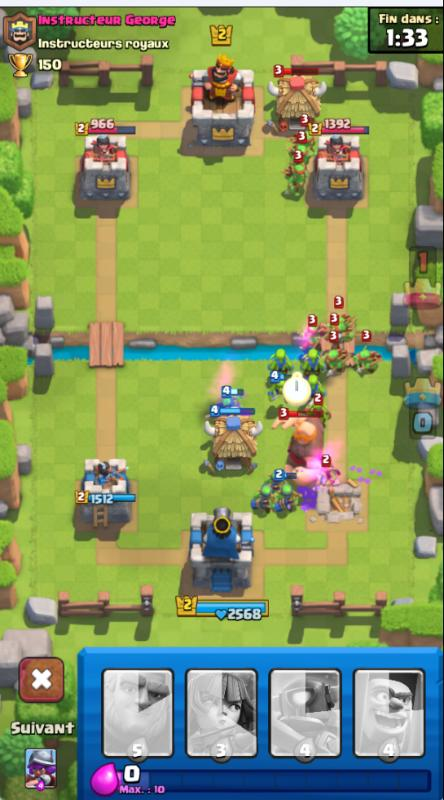geant: (273, 406, 328, 493)
gobelin: (306, 399, 332, 434), (319, 454, 338, 494), (302, 347, 323, 382), (267, 346, 287, 380), (308, 372, 329, 403), (270, 376, 289, 405)
gobelin_lances: (296, 316, 325, 351), (331, 310, 357, 348), (281, 164, 309, 199), (293, 124, 319, 160), (354, 347, 380, 382), (324, 346, 350, 380), (250, 483, 273, 518), (276, 484, 298, 519), (289, 145, 313, 177), (264, 469, 288, 492)
